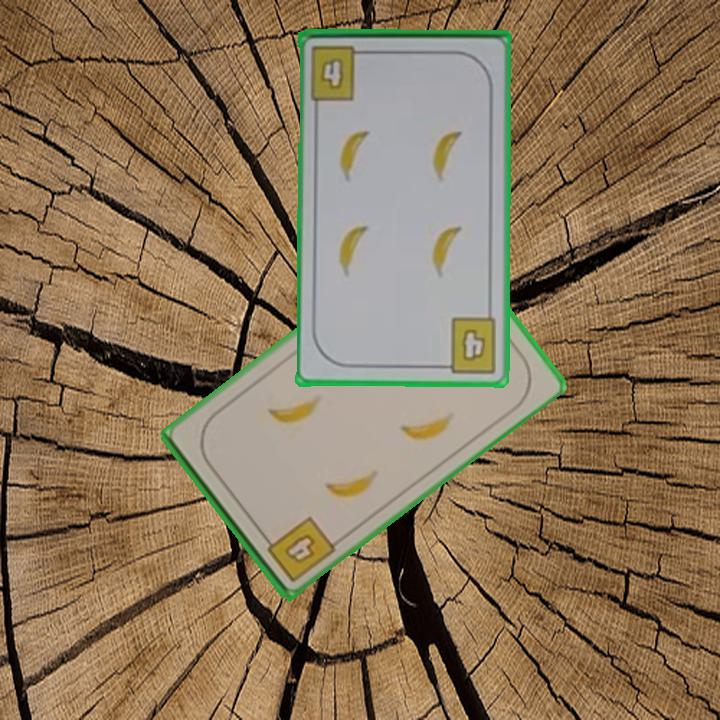4b: (258, 512, 338, 585), (307, 41, 371, 103), (436, 314, 500, 375)
